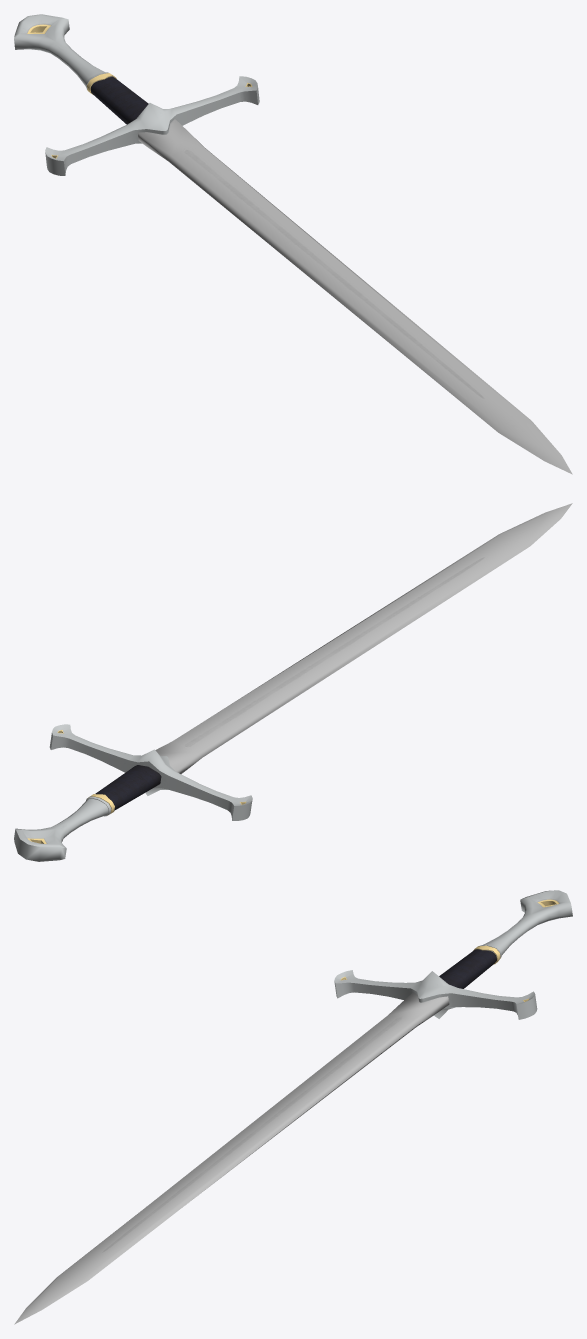
File: newSword.glb
3 views of the same model, one above another, from view 1: azimuth 30°, elevation 25°; view 2: azimuth 150°, elevation 25°; view 3: azimuth 330°, elevation 25° (orthographic). The views are drawn at different scales.
Visible parts, largest first — view 1: Blade_low001; view 2: Blade_low001; view 3: Blade_low001.
Part boxes in pixels (x1=…): Blade_low001: x1=14, y1=14, x2=572, y2=474; Blade_low001: x1=14, y1=503, x2=572, y2=861; Blade_low001: x1=14, y1=890, x2=572, y2=1324.
Bounding box in the file's own units: 0.4304 × 0.1118 × 2.
Materials: 1 (1 with a texture image).
